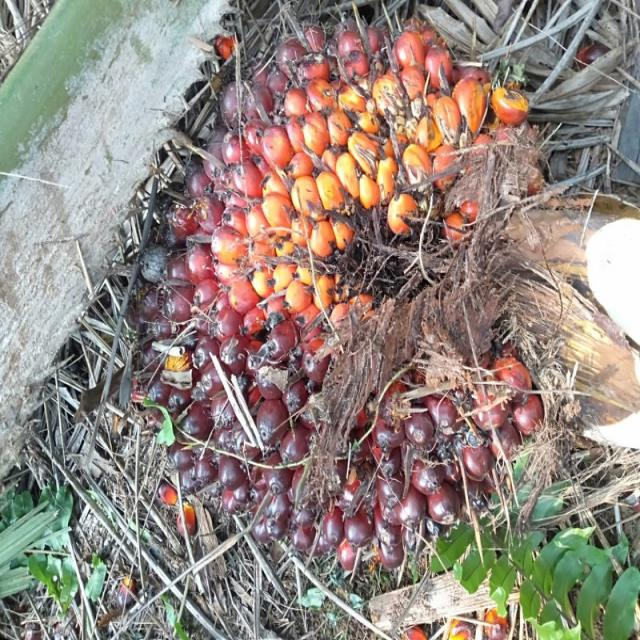fraksi 3: (35, 28, 572, 575)
